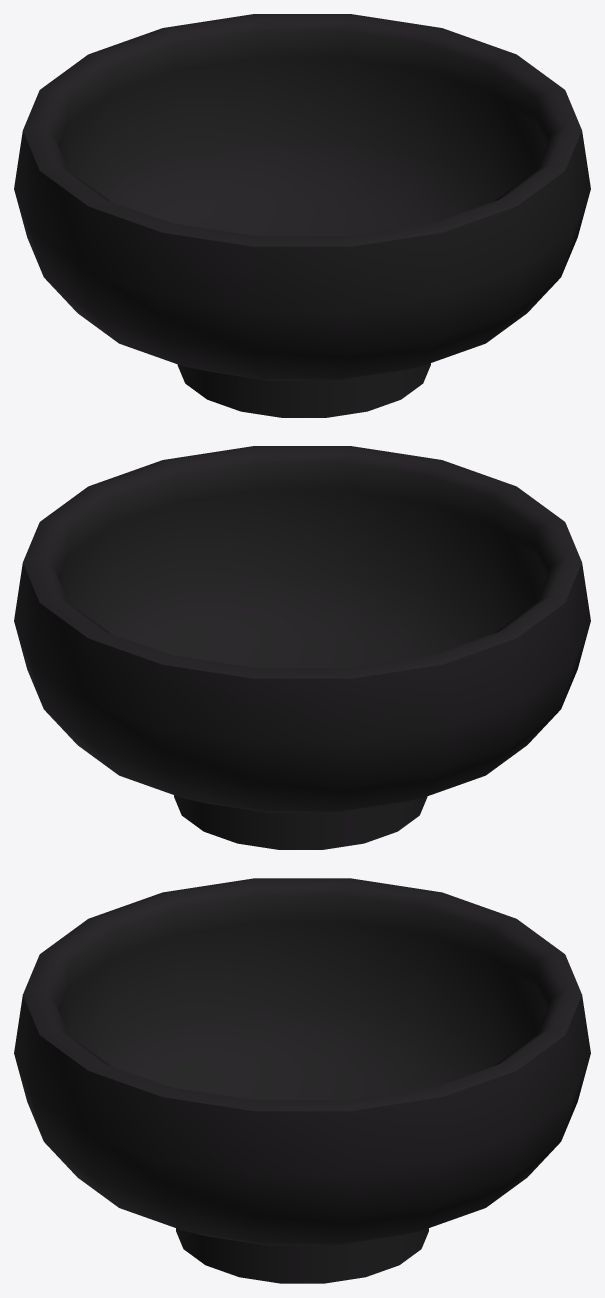
Rendered from quaternius-sushi-restaurant-environment-bowl.glb.
The picture shows the model from 3 angles, top to bottom: view 1: azimuth 30°, elevation 25°; view 2: azimuth 150°, elevation 25°; view 3: azimuth 270°, elevation 25°; orthographic projection.
Parts seen in each view (by area): view 1: Environment_Bowl; view 2: Environment_Bowl; view 3: Environment_Bowl.
Part boxes in pixels (x1=…): Environment_Bowl: x1=14, y1=14, x2=590, y2=417; Environment_Bowl: x1=14, y1=446, x2=590, y2=849; Environment_Bowl: x1=14, y1=878, x2=590, y2=1283.
Size of the model in its own units: 0.9845 by 0.4581 by 0.9997.
1 material, 1 textured.
